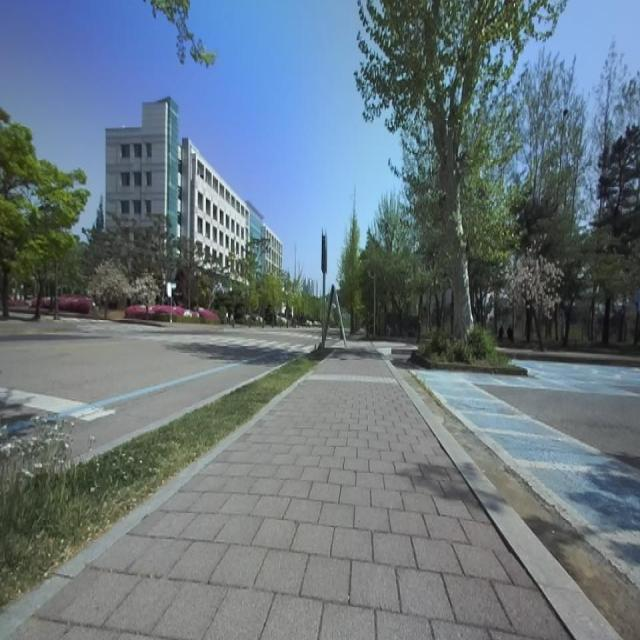sidewalk: (0, 340, 617, 639)
